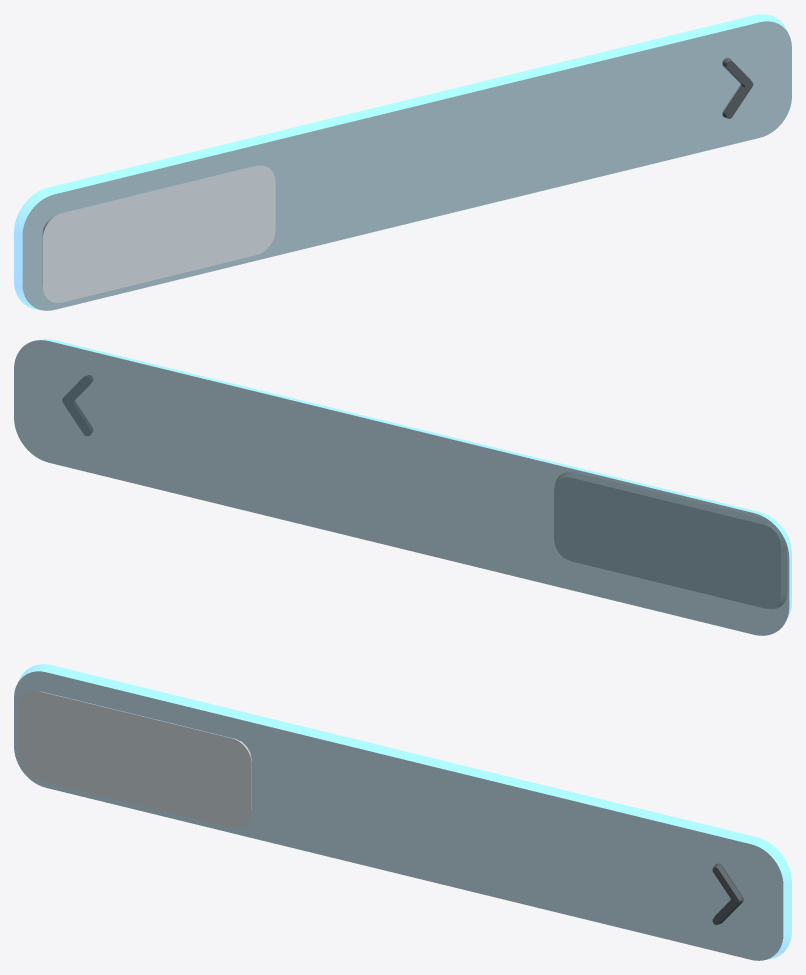
Rendered from list-row-9a4186.glb.
3 renders of one model, top to bottom at view 1: azimuth 30°, elevation 25°; view 2: azimuth 150°, elevation 25°; view 3: azimuth 330°, elevation 25°, orthographic.
Parts seen in each view (by area): view 1: glass, label-pad, rim, glyph; view 2: glass, label-pad, rim, glyph; view 3: glass, label-pad, rim, glyph.
Part boxes in pixels (left/top/right/bottom): glass: left=22, top=21, right=791, bottom=310; label-pad: left=42, top=165, right=275, bottom=302; rim: left=14, top=14, right=787, bottom=310; glyph: left=722, top=58, right=753, bottom=118; glass: left=14, top=340, right=789, bottom=635; label-pad: left=554, top=472, right=786, bottom=608; rim: left=38, top=339, right=791, bottom=618; glyph: left=63, top=375, right=92, bottom=435; glass: left=14, top=671, right=783, bottom=960; label-pad: left=18, top=690, right=251, bottom=828; rim: left=18, top=664, right=791, bottom=960; glyph: left=712, top=864, right=742, bottom=924.
Size of the model in its own units: 0.4 by 0.06 by 0.012.
